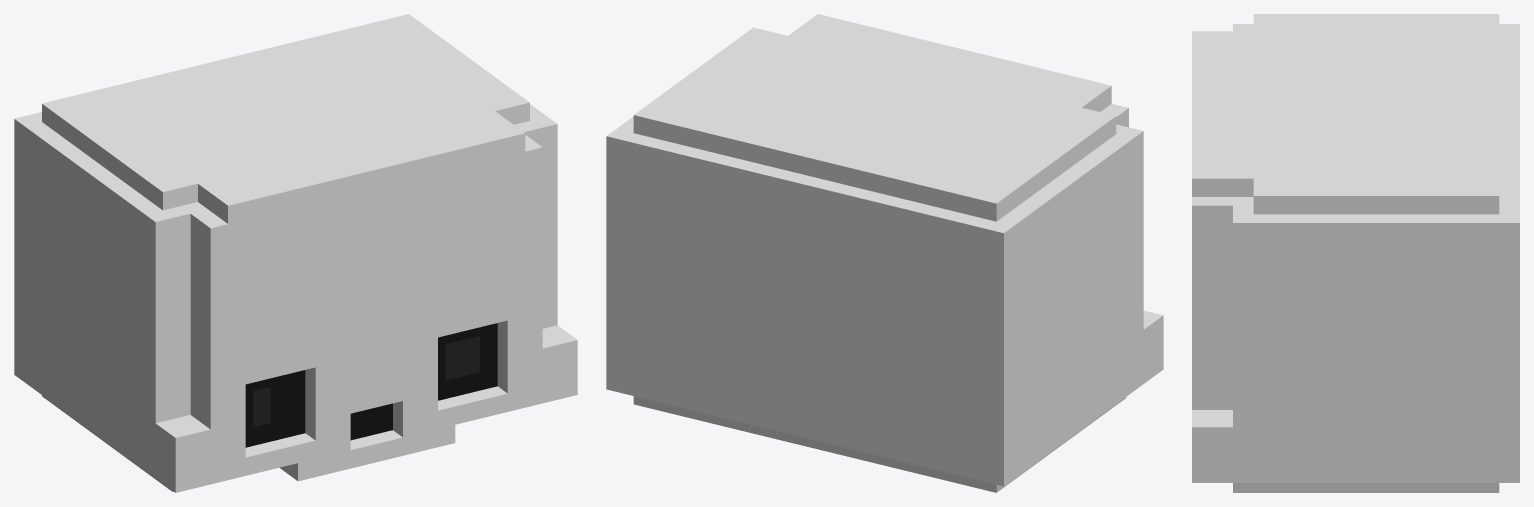
Rendered from Skeleton-5.obj.
3 views of the same model, side by side, from view 1: azimuth 30°, elevation 25°; view 2: azimuth 150°, elevation 25°; view 3: azimuth 270°, elevation 25° (orthographic). The views are drawn at different scales.
Size of the model in its own units: 2.3 by 1.7 by 1.6.
1 material, 1 textured.
